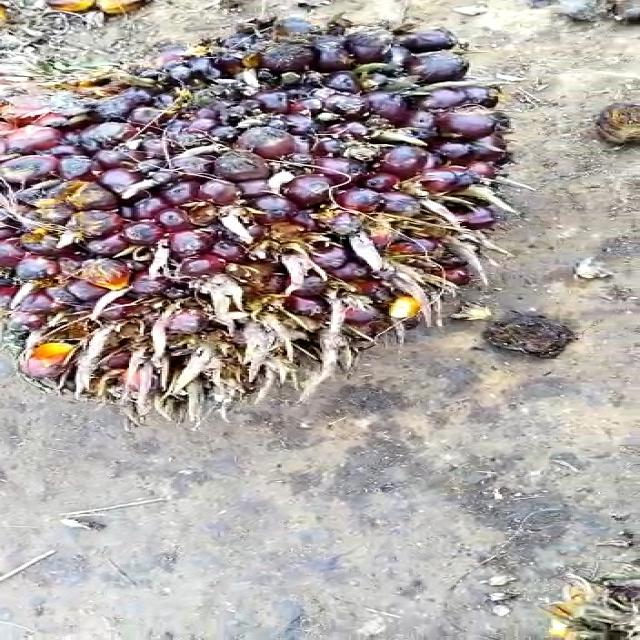palm oil: (0, 6, 553, 425)
